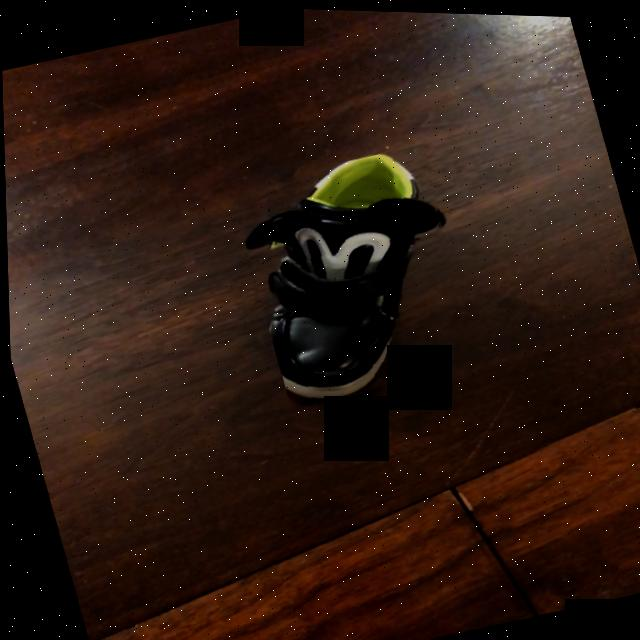shoe: (244, 152, 440, 397)
